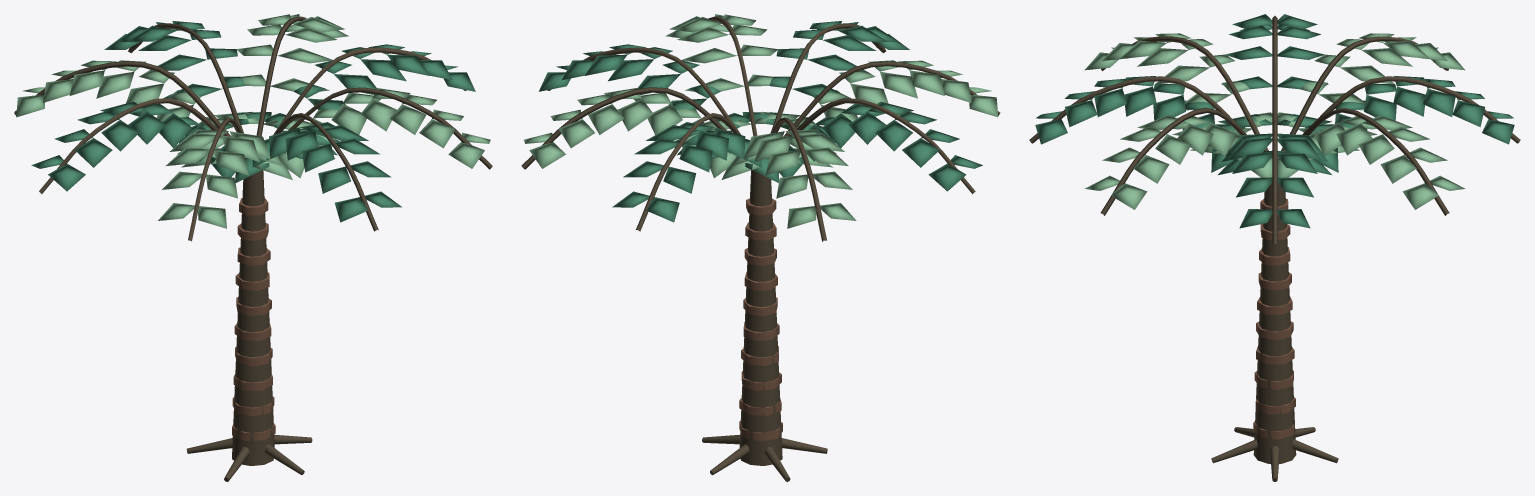
The model's file is tree-fern.glb.
3 views of the same model, side by side, from view 1: azimuth 30°, elevation 25°; view 2: azimuth 150°, elevation 25°; view 3: azimuth 270°, elevation 25° (orthographic).
Visible parts, largest first — view 1: Vesper / tree-fern; view 2: Vesper / tree-fern; view 3: Vesper / tree-fern.
Boxes of the visible parts, x1=… form: Vesper / tree-fern: x1=14, y1=14, x2=492, y2=481; Vesper / tree-fern: x1=521, y1=14, x2=1000, y2=481; Vesper / tree-fern: x1=1029, y1=14, x2=1520, y2=481.
Bounding box in the file's own units: 6.24 × 5.31 × 6.24.
